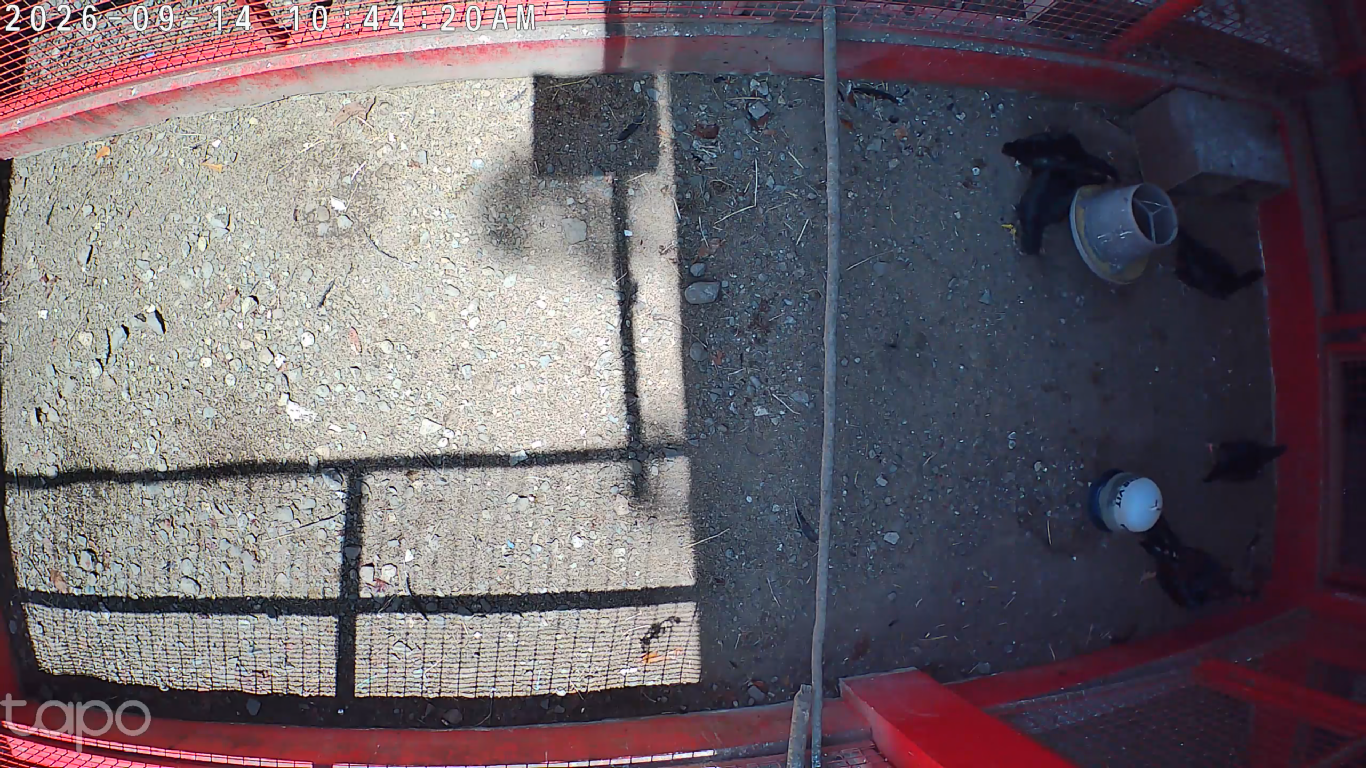Chicken: (990, 170, 1116, 258), (997, 120, 1121, 184), (1196, 433, 1289, 483)
Leg_Band_White: (1015, 160, 1022, 166)
Leg_Band_Yellow: (1000, 221, 1019, 234)
Rooster: (1123, 513, 1256, 613)
